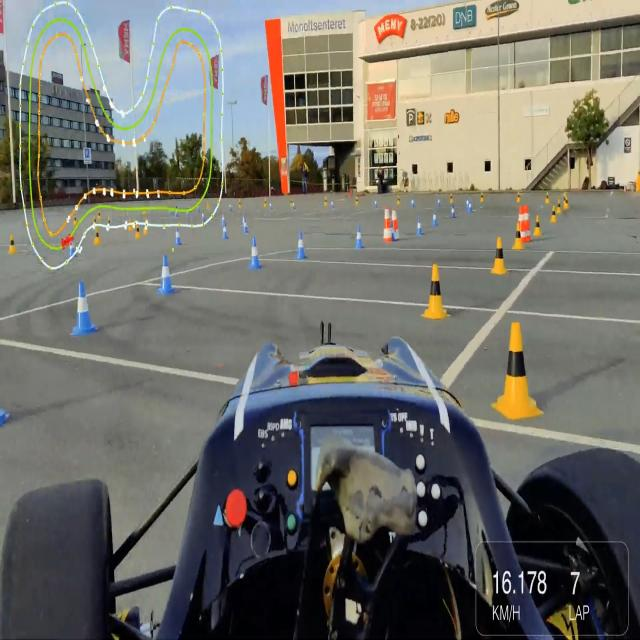blue_cone: (72, 280, 96, 336), (158, 255, 174, 293), (248, 237, 262, 270), (296, 231, 307, 260), (354, 223, 364, 247), (174, 227, 182, 245), (416, 216, 423, 236), (242, 218, 249, 234), (432, 210, 438, 227), (222, 222, 228, 239), (450, 202, 456, 218)
large_orange_cone: (516, 205, 527, 243), (390, 207, 400, 241), (383, 208, 392, 243), (524, 205, 532, 241)
yellow_cone: (491, 322, 544, 420), (420, 265, 450, 320), (492, 237, 508, 275), (512, 221, 524, 249), (534, 216, 542, 236), (8, 234, 16, 254), (94, 227, 101, 245), (134, 222, 141, 240), (550, 204, 556, 223), (557, 198, 562, 212)
